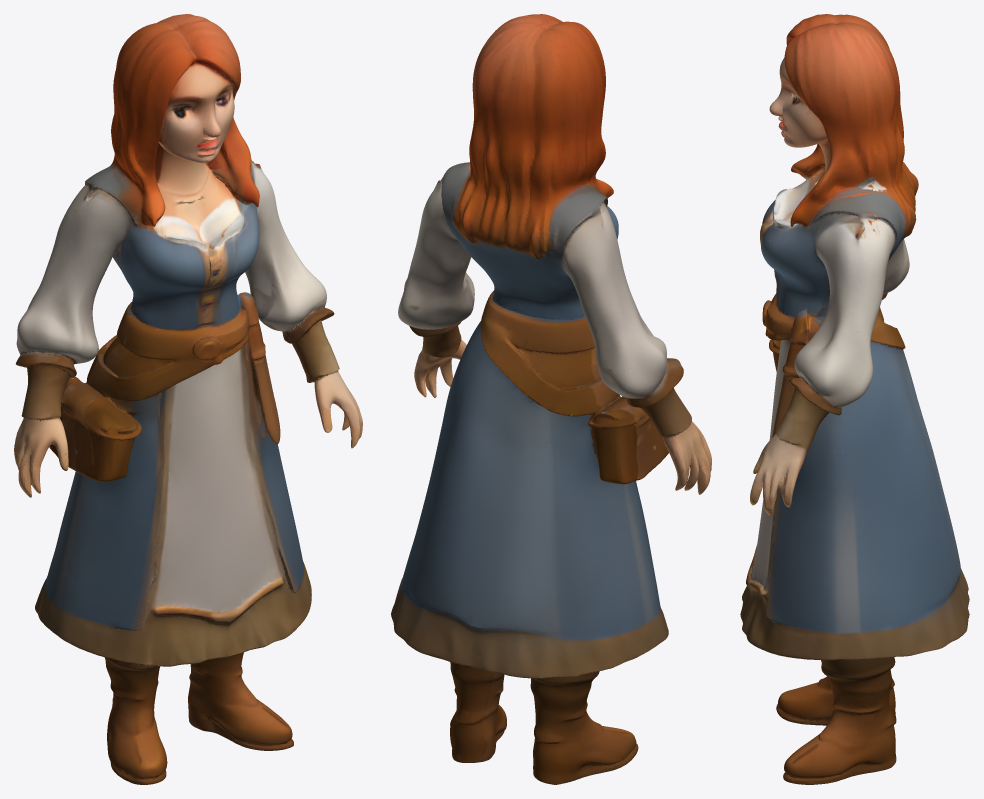
Rendered from base_basic_pbr.fbx.
3 views of the same model, side by side, from view 1: azimuth 30°, elevation 25°; view 2: azimuth 150°, elevation 25°; view 3: azimuth 270°, elevation 25° (orthographic). The views are drawn at different scales.
Parts seen in each view (by area): view 1: model; view 2: model; view 3: model.
Boxes of the visible parts, x1,y1,x2,y2 form: model: [14, 14, 362, 784]; model: [391, 14, 711, 784]; model: [740, 14, 969, 784].
Size of the model in its own units: 85.48 by 190 by 54.9.
Materials: 1 (1 with a texture image).
